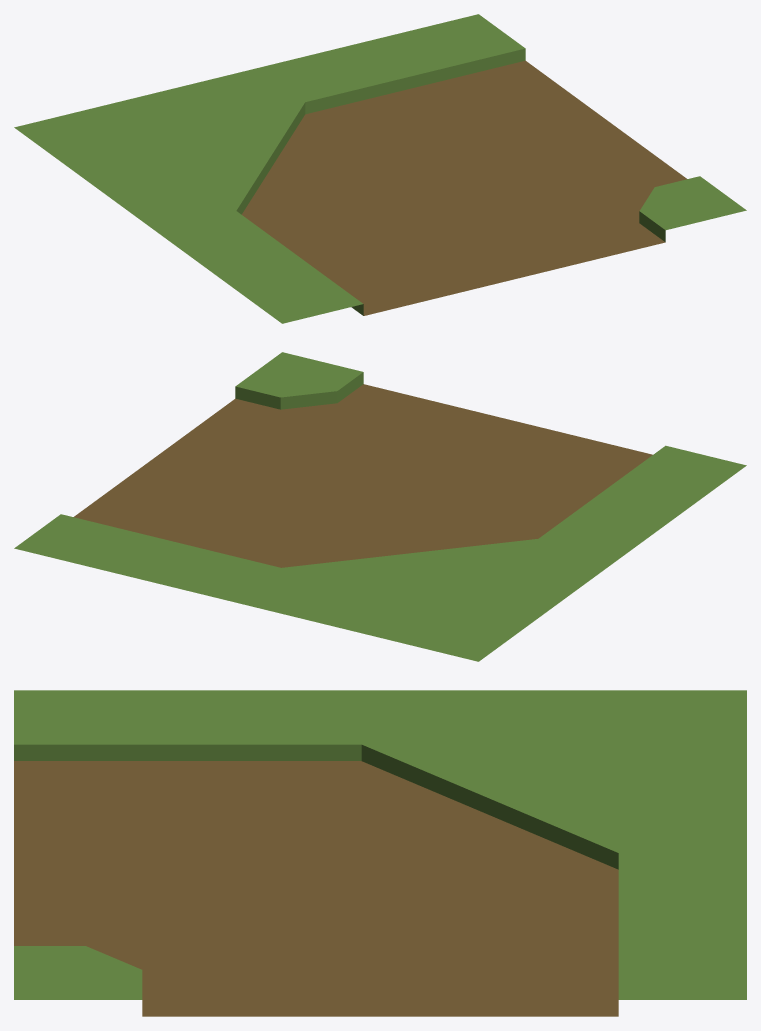
The model's file is road_turn.fbx.
3 renders of one model, top to bottom at view 1: azimuth 30°, elevation 25°; view 2: azimuth 150°, elevation 25°; view 3: azimuth 270°, elevation 25°, orthographic. The views are drawn at different scales.
Visible parts, largest first — view 1: turn; view 2: turn; view 3: turn.
Part boxes in pixels (<box>): turn: <box>14,14,746,323</box>; turn: <box>14,352,746,661</box>; turn: <box>14,690,746,1016</box>.
Bounding box in the file's own units: 200 × 5 × 200.
